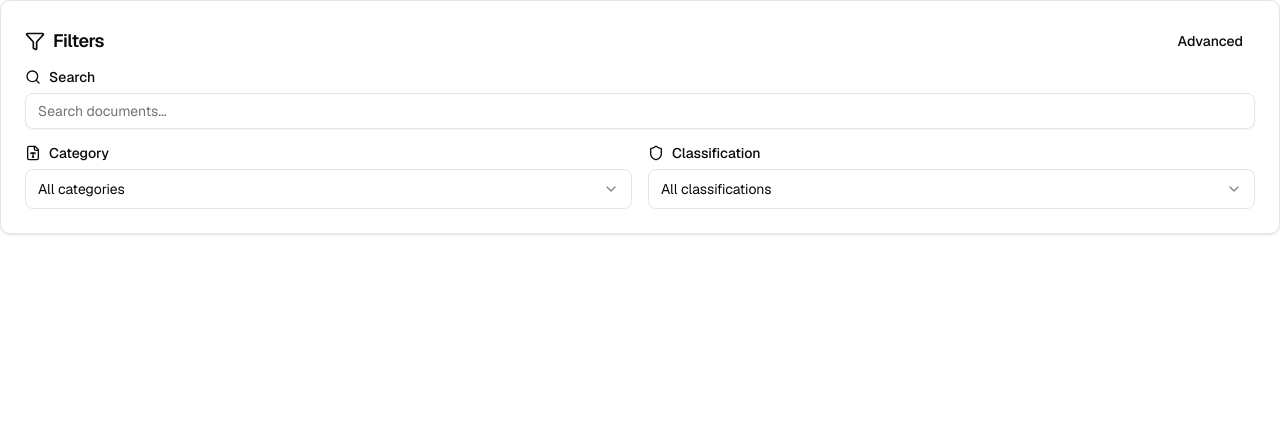
Test: DocumentFilters › disables add button when tag input is empty
// Show advanced filters first
Click the button "Advanced" at (1210, 41), box [1166,25,1255,57]
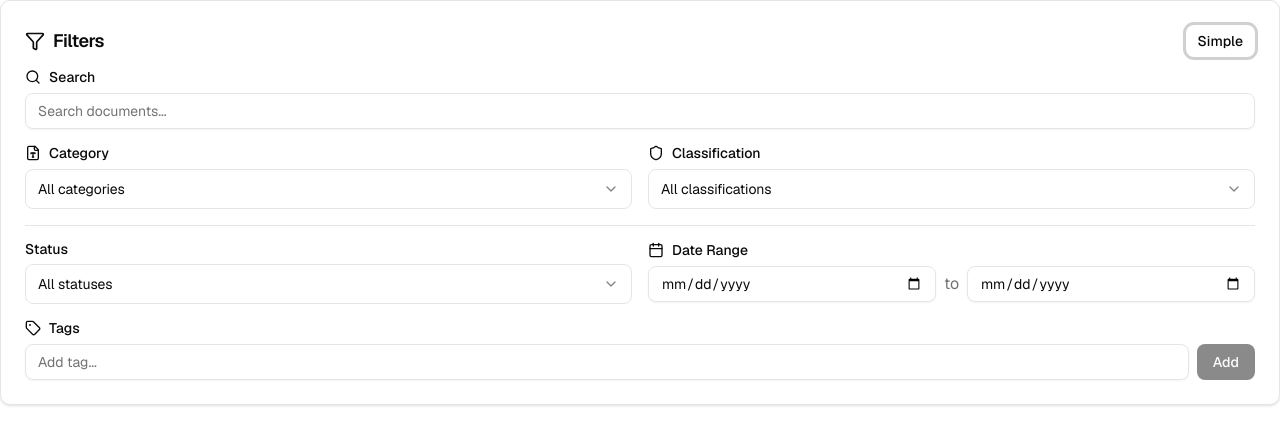
Now the button "Add" is disabled, box [1197,344,1255,380]
Type "test" into the field with placeholder "Add tag..." at (607, 362), box [25,344,1189,380]
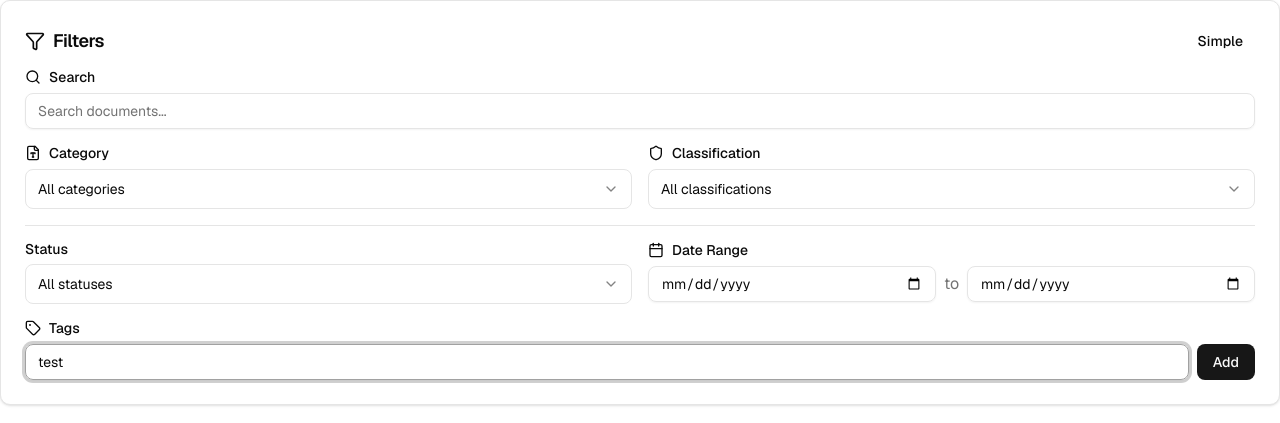
Now the button "Add" is enabled, box [1197,344,1255,380]
